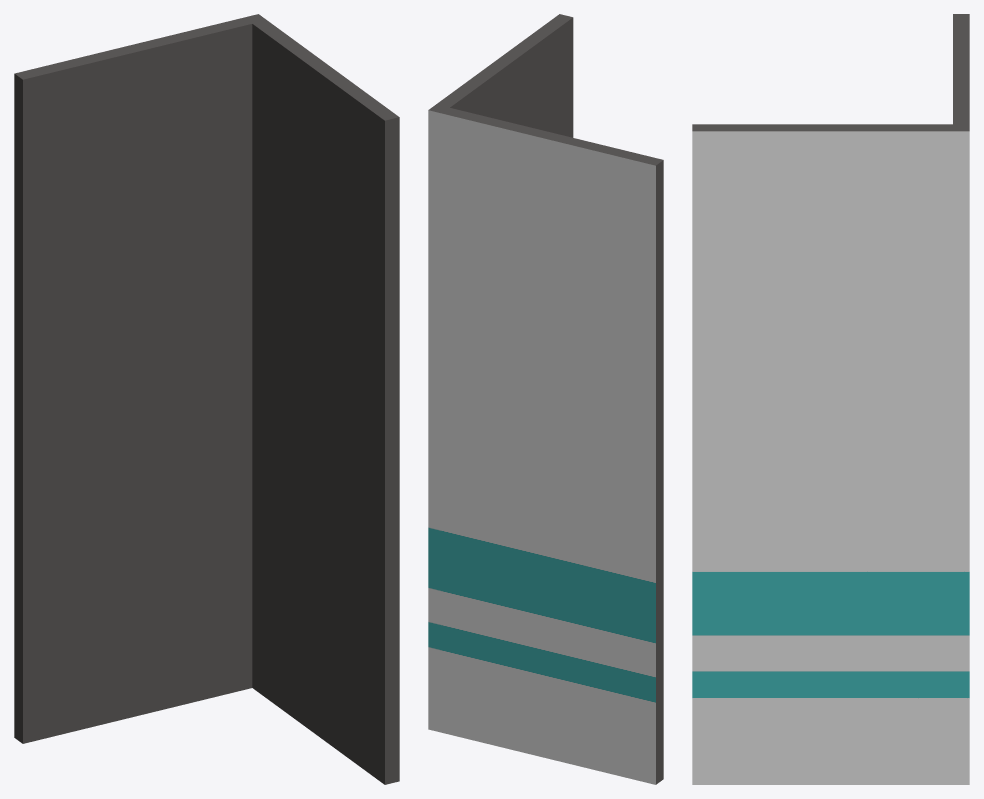
File: corner.gltf
3 views of the same model, side by side, from view 1: azimuth 30°, elevation 25°; view 2: azimuth 150°, elevation 25°; view 3: azimuth 270°, elevation 25° (orthographic). The views are drawn at different scales.
Visible parts, largest first — view 1: Corner; view 2: Corner; view 3: Corner.
Part boxes in pixels (x1,y1,x2,y2): Corner: [14, 14, 399, 784]; Corner: [428, 14, 663, 784]; Corner: [692, 14, 969, 784].
Bounding box in the file's own units: 1 × 2.6 × 1.
Materials: 2 (1 with a texture image).
